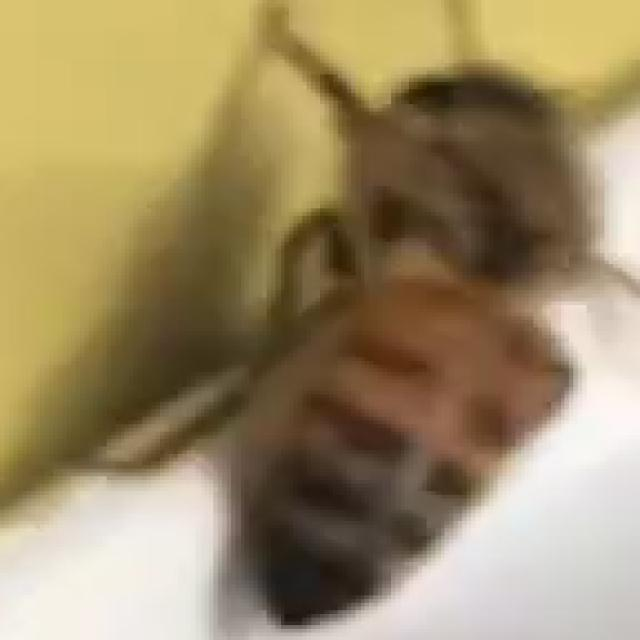honeybee: (209, 22, 555, 598)
